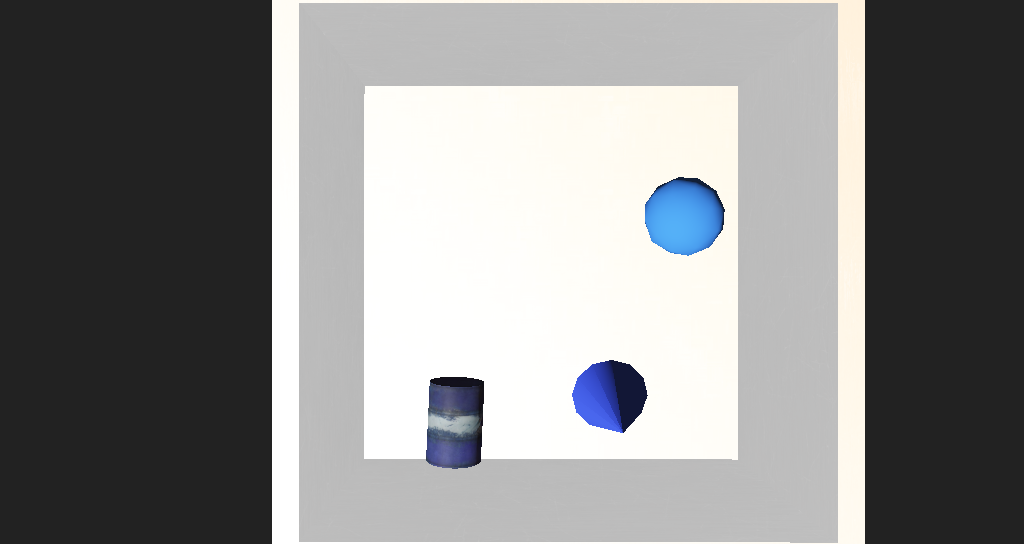cone: (397, 327, 451, 379)
cylinder: (529, 320, 589, 377)
sphere: (583, 217, 643, 260)
